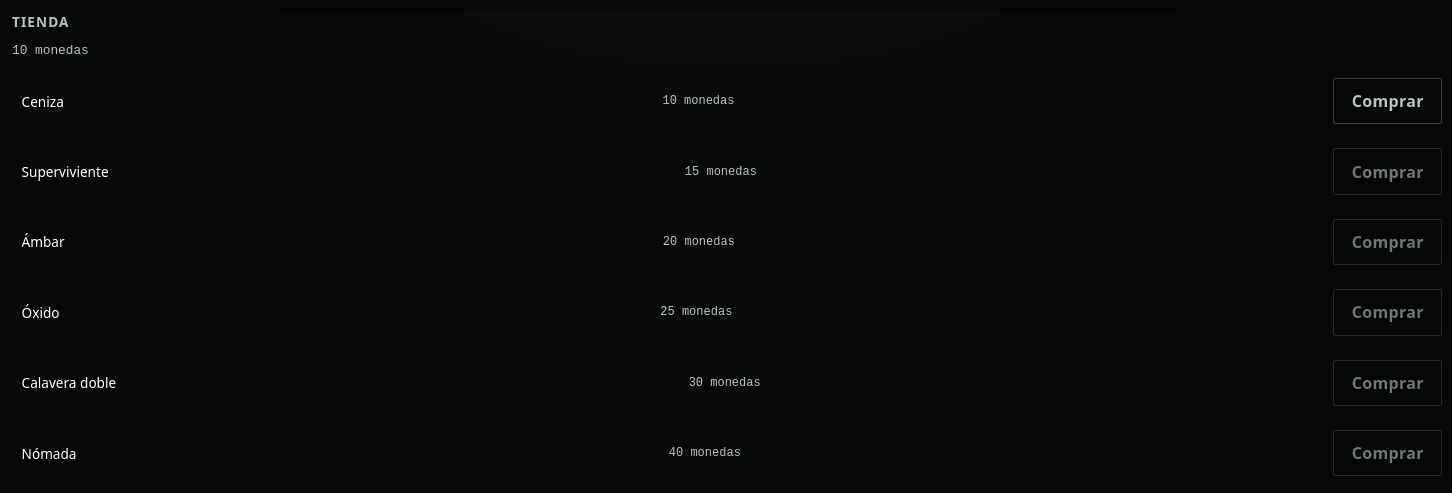
Test case: ShopPanel › compra un objeto, actualiza el saldo y lo marca como comprado
Expected: the text with class "shop-panel__balance" is shown, [12,43,89,58]
Click the button "Comprar" in the row of "Ceniza".
click(1388, 101)  # box [1333,78,1442,124]
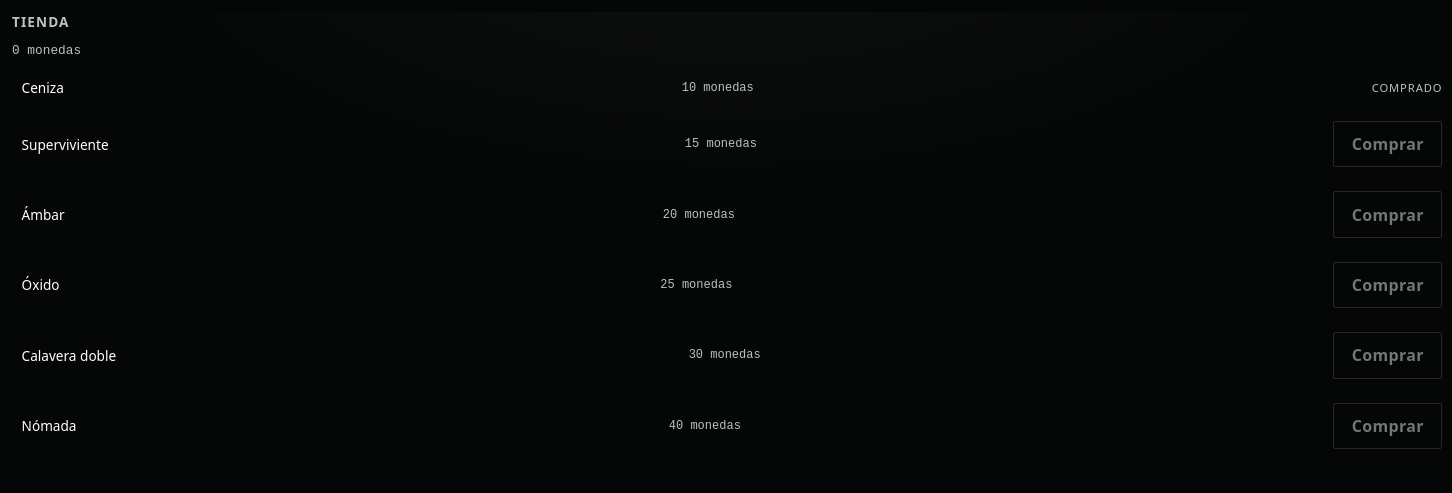
Expected: the text "0 monedas" is shown, [12,43,81,58]
Expected: the text "Comprado" is shown, [1372,80,1442,95]
